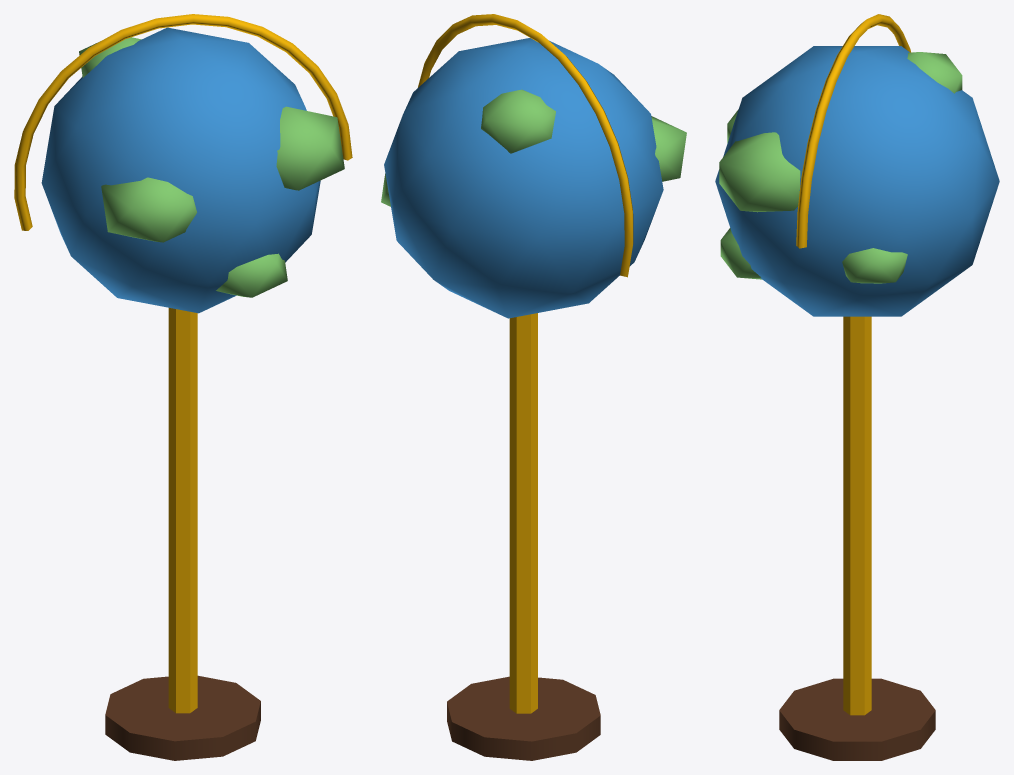
Rendered from station_transport_ausstattung_1_0.glb.
3 renders of one model, left to right at view 1: azimuth 30°, elevation 25°; view 2: azimuth 150°, elevation 25°; view 3: azimuth 270°, elevation 25°, orthographic.
Visible parts, largest first — view 1: station_transport_ausstattung_1_0; view 2: station_transport_ausstattung_1_0; view 3: station_transport_ausstattung_1_0.
Boxes of the visible parts, <box> form: station_transport_ausstattung_1_0: <box>14,14,352,760</box>; station_transport_ausstattung_1_0: <box>381,14,686,760</box>; station_transport_ausstattung_1_0: <box>715,14,999,760</box>.
Bounding box in the file's own units: 0.4462 × 1.09 × 0.4.
